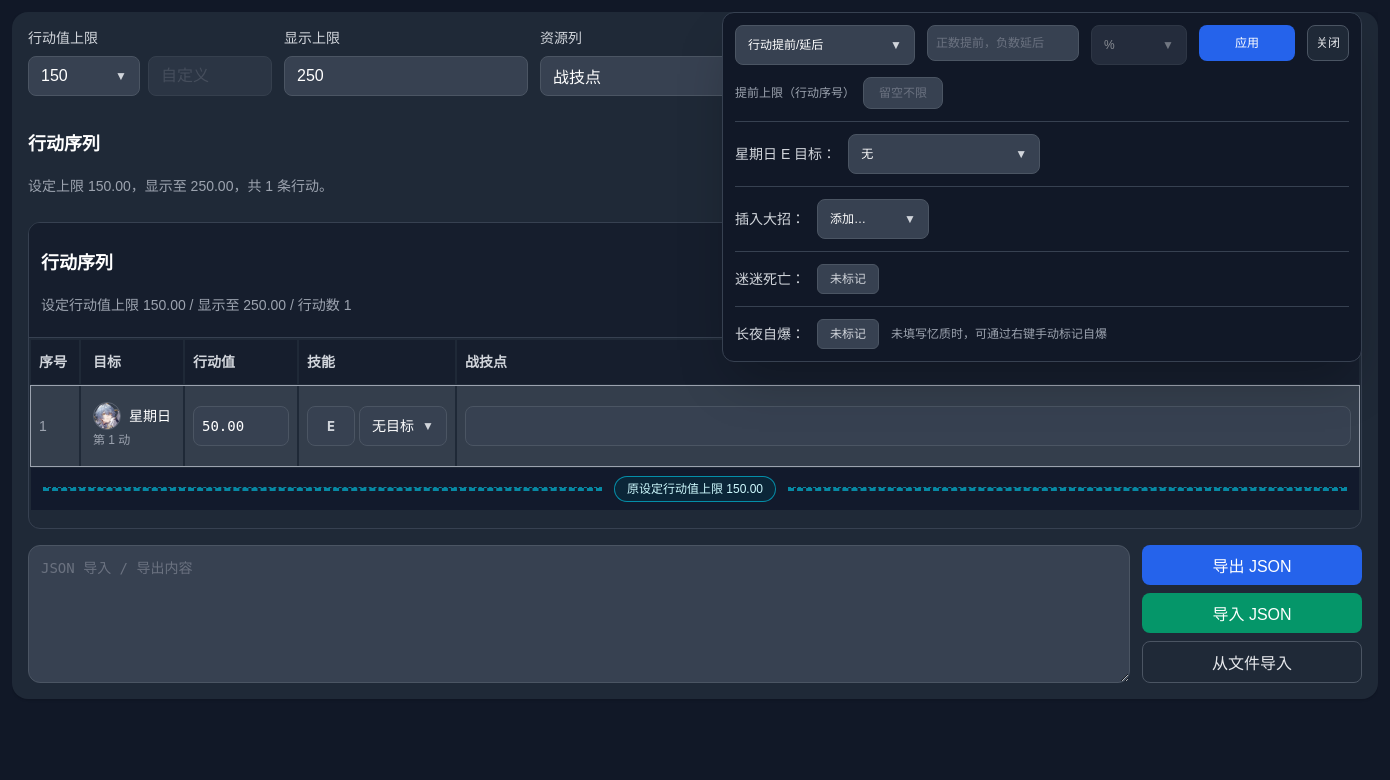
Test case: ActionPanel RMC / Evernight › Sunday 的 E 目标列表不会出现死龙、衣匠、迷迷、长夜
Click the text "无": (867, 154) [861,146,873,162]
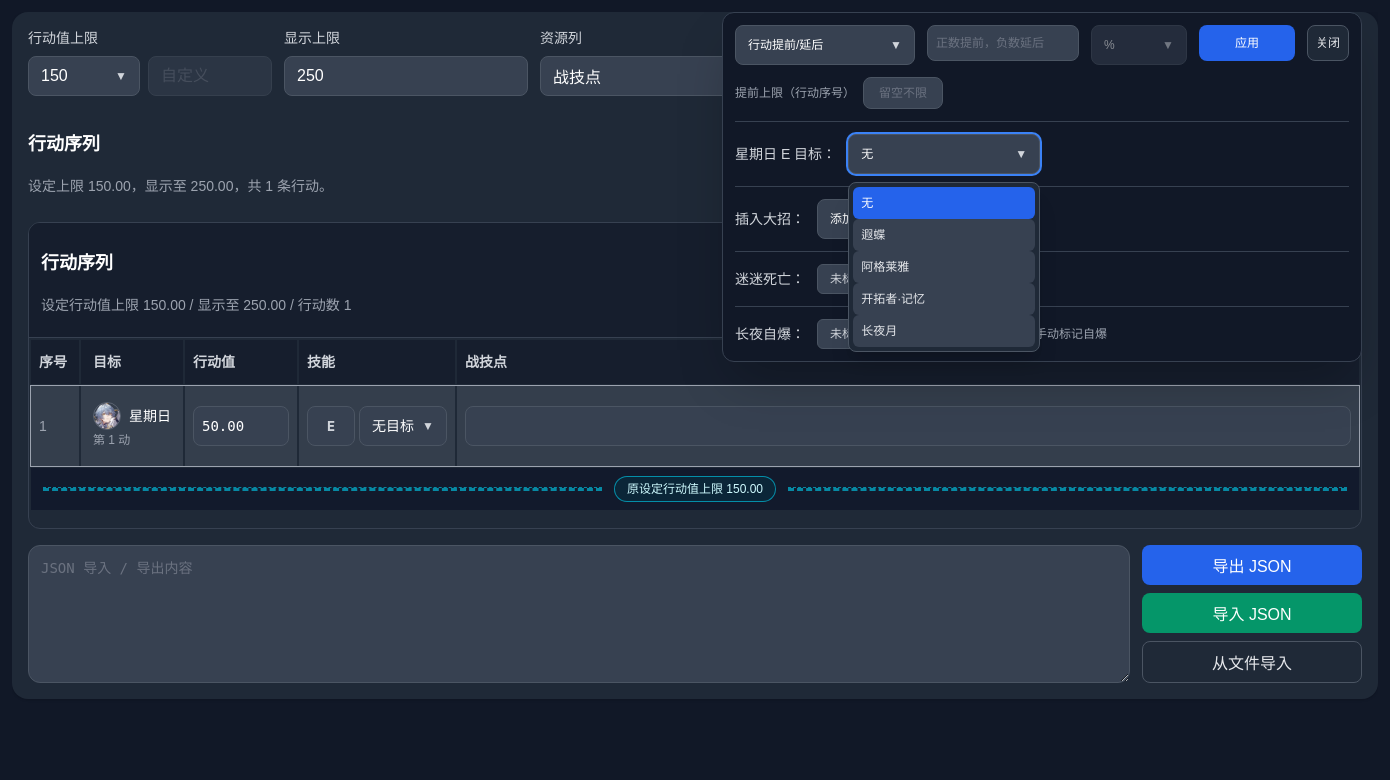
Expected: the button "遐蝶" is shown, [853,219,1035,251]
Expected: the button "阿格莱雅" is shown, [853,251,1035,283]
Expected: the button "开拓者·记忆" is shown, [853,283,1035,315]
